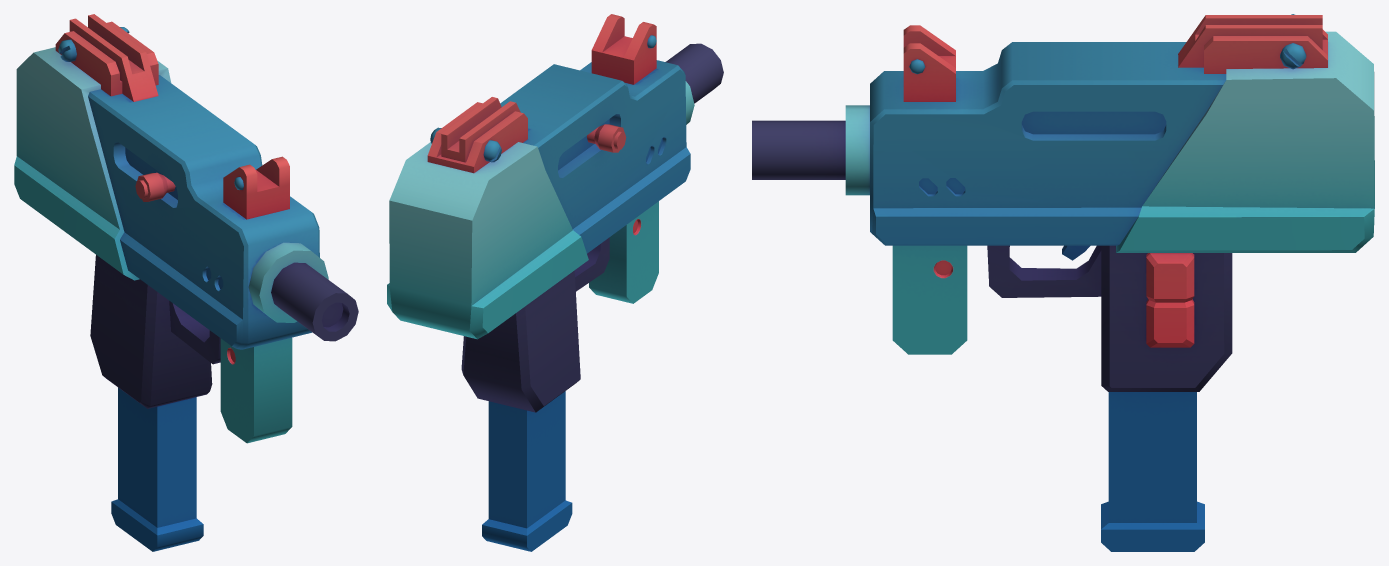
The model's file is LowPoly_UZIGun.fbx.
3 renders of one model, left to right at view 1: azimuth 30°, elevation 25°; view 2: azimuth 150°, elevation 25°; view 3: azimuth 270°, elevation 25°, orthographic. The views are drawn at different scales.
Visible parts, largest first — view 1: UZI; view 2: UZI; view 3: UZI.
Part boxes in pixels (<box>): UZI: <box>14,14,358,551</box>; UZI: <box>387,14,723,551</box>; UZI: <box>752,14,1374,551</box>.
Size of the model in its own units: 41.86 by 174 by 189.
